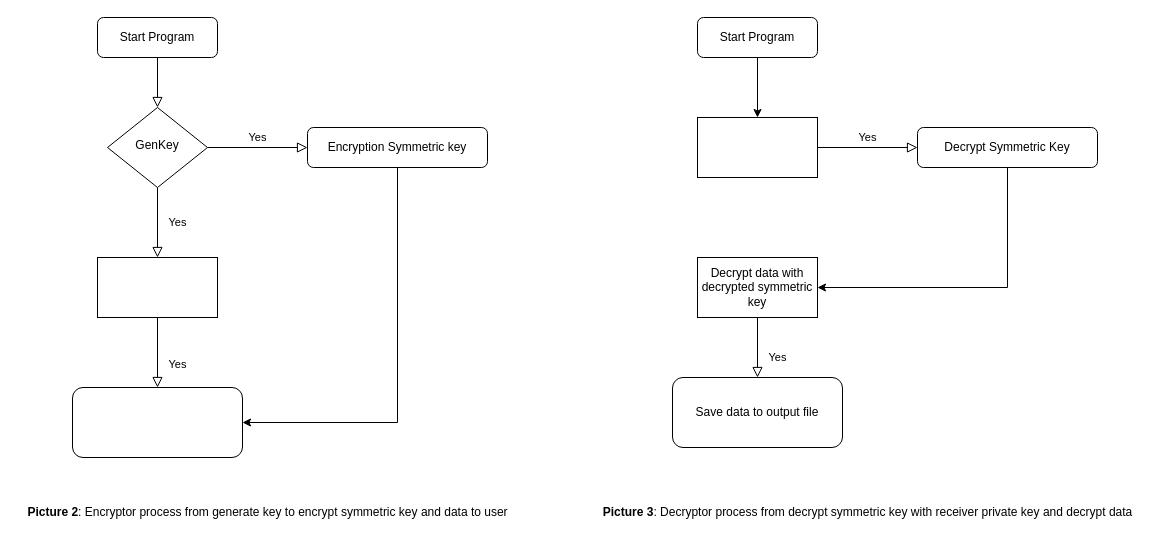
This 1159x545 diagram has some shape labels left out. Each missing label, with the centre of its shape:
Encrypt data with symmetric key: point (157, 287)
Get receiver Private Key and Encrypted Symmetric: point (757, 147)
Send Encrypted Symmetric key, Data for receiver: point (157, 422)
